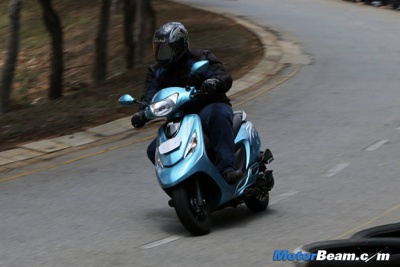helmet: (148, 19, 194, 70)
